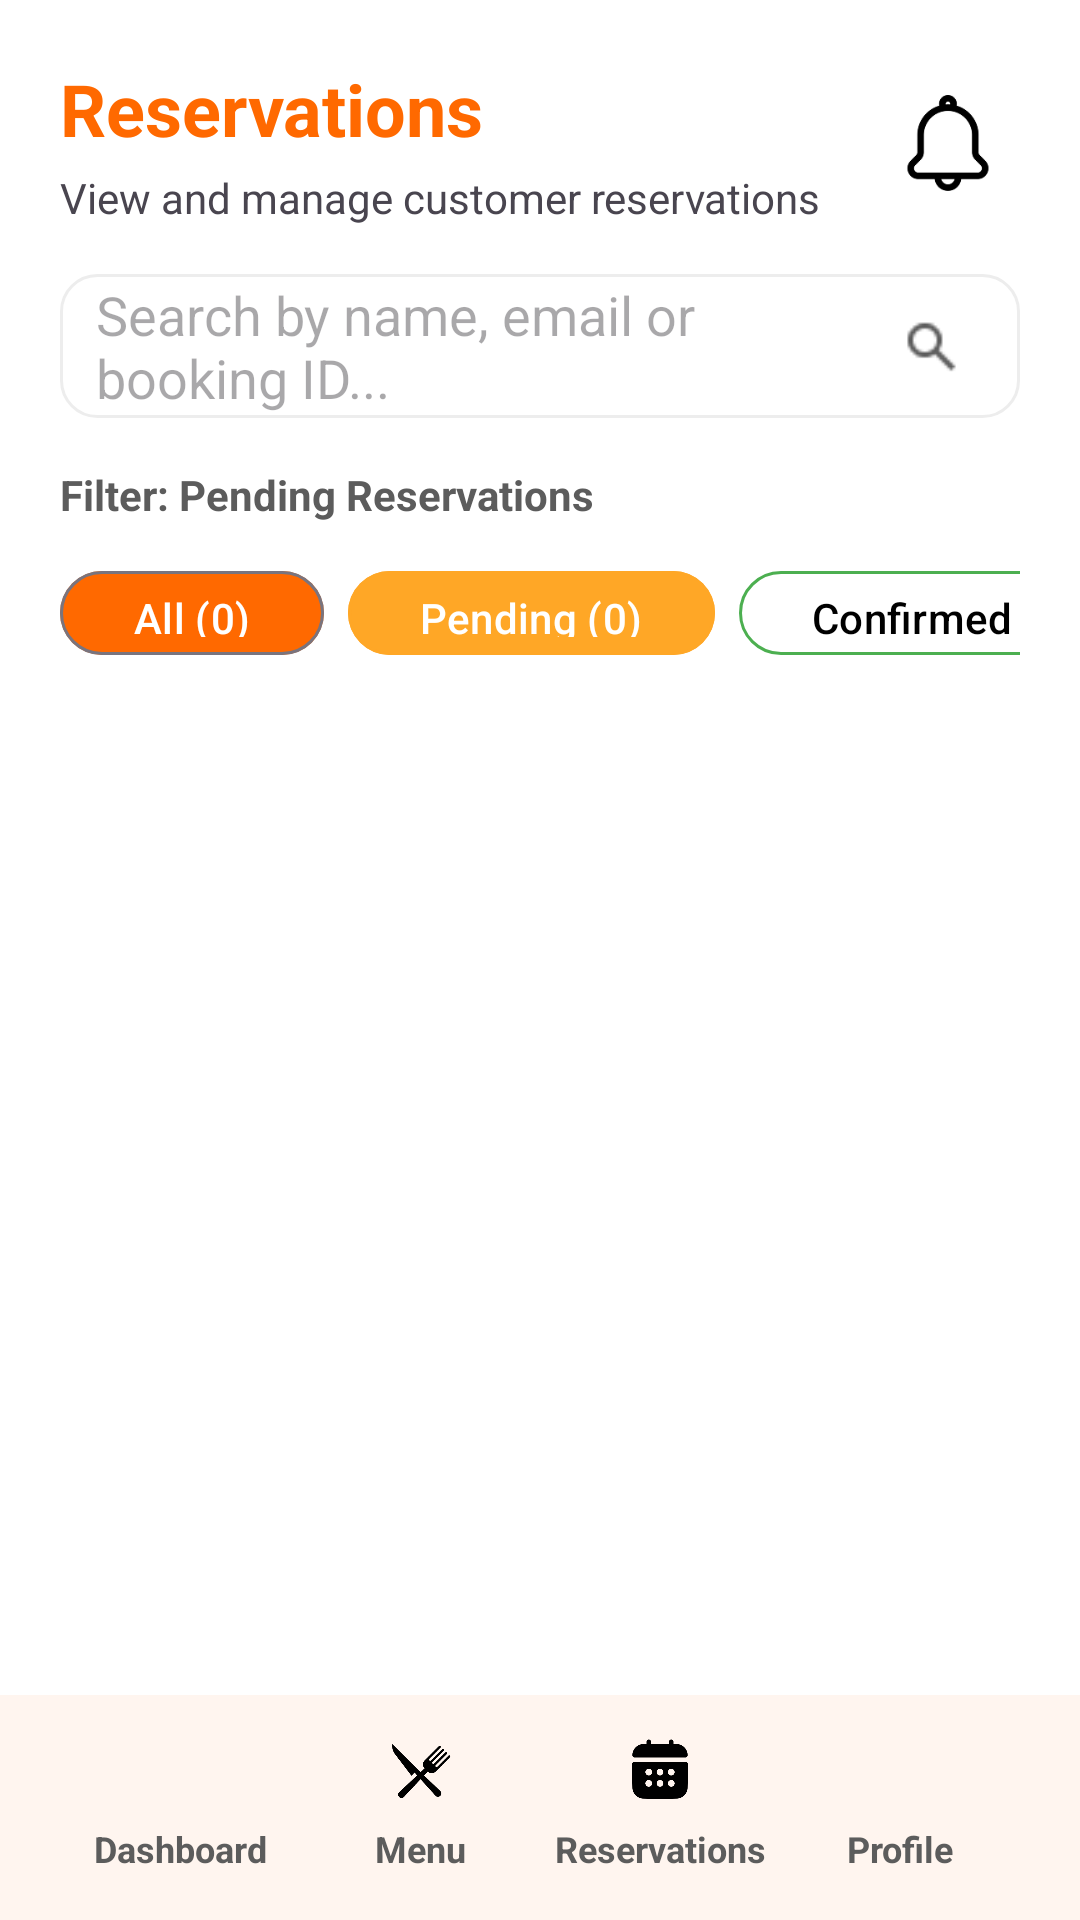

Icons on this 1080px x 1920px Android screen, each with the point to tap as point (x, y):
bell: point (948, 143)
